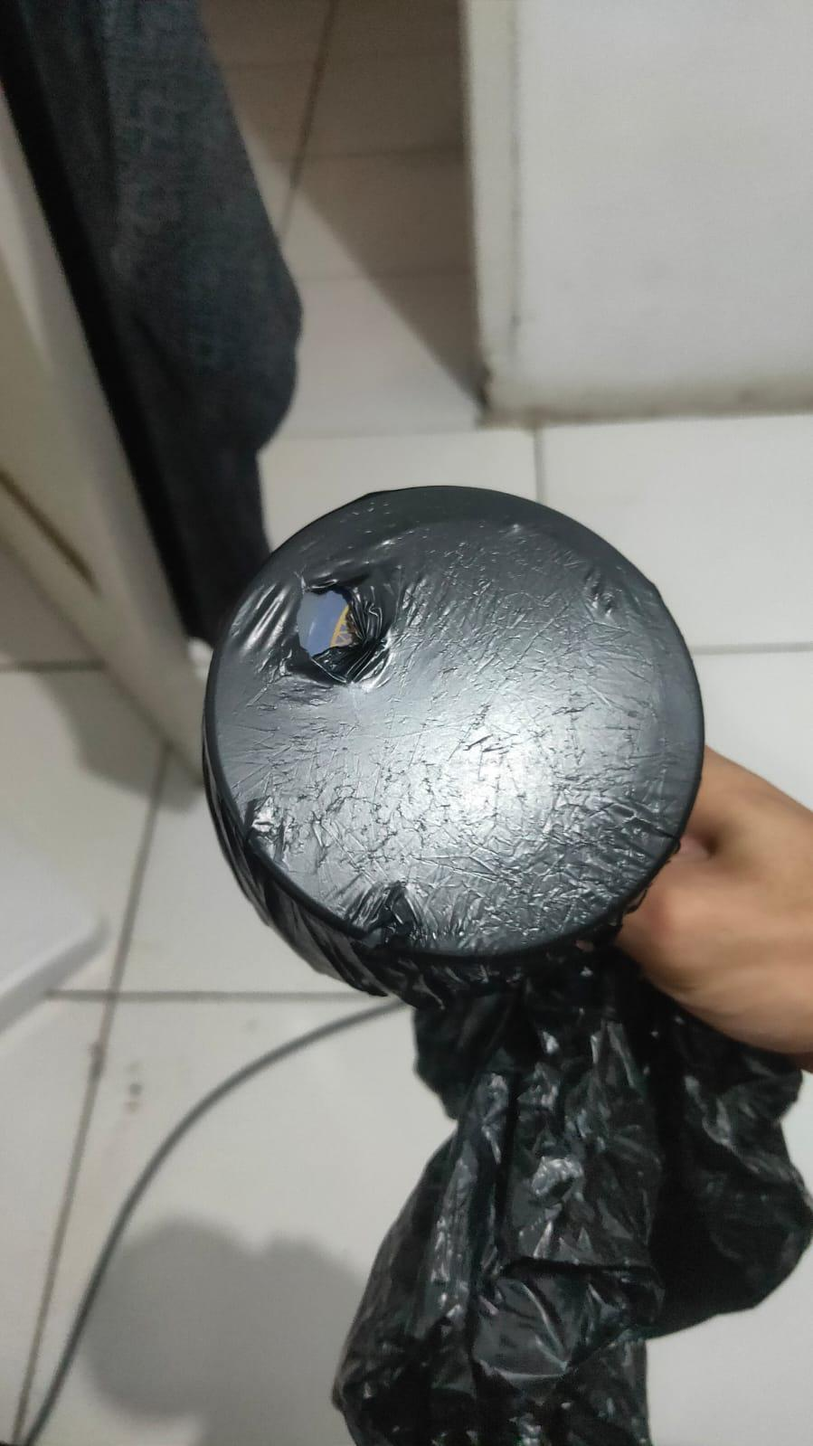damaged package: (274, 564, 397, 681), (346, 891, 410, 961)
undamaged: (178, 474, 710, 1019)
